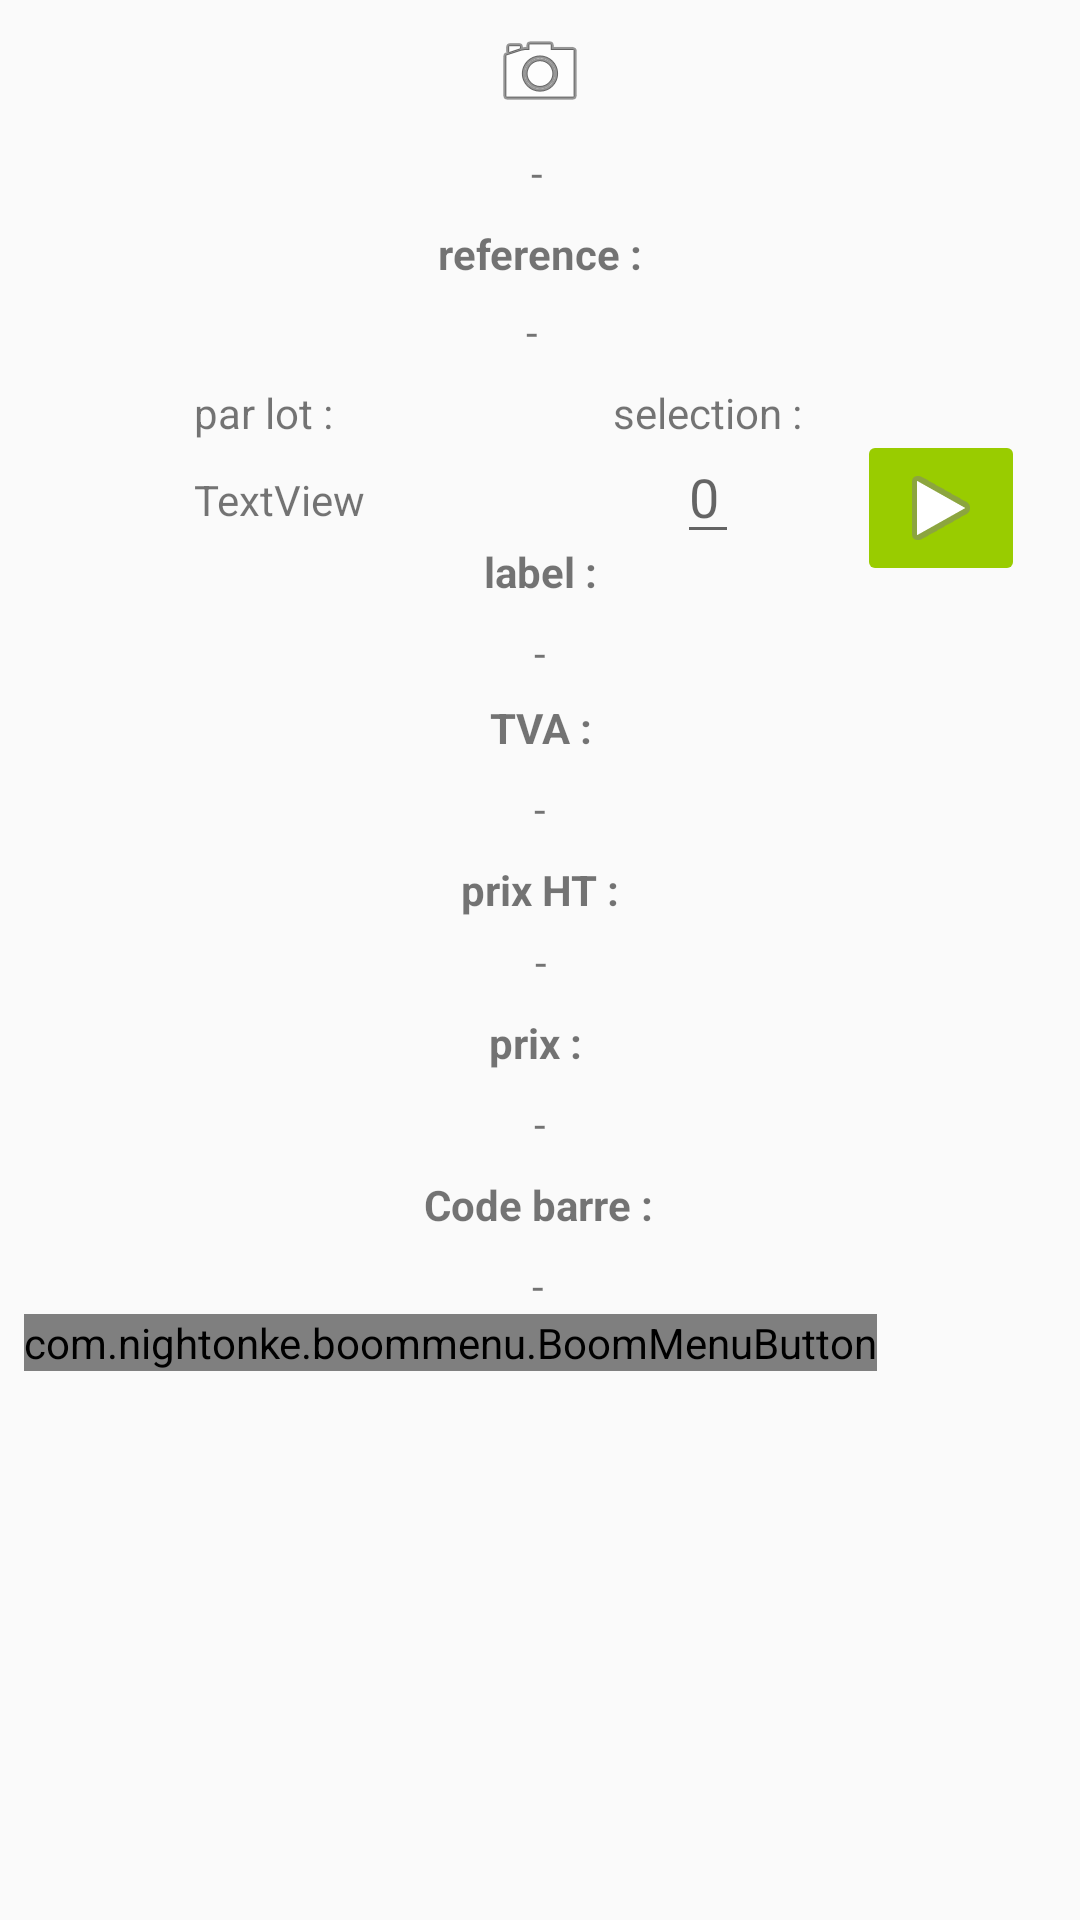

Icon click points for this 1080 x 1920 phone screenshot, format [x,y]:
camera: [540,70]
